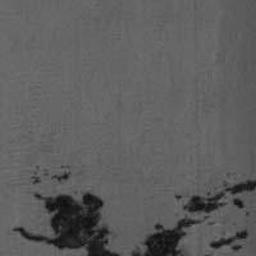Inclusion: (129, 179, 256, 256), (10, 191, 123, 256), (31, 163, 72, 186), (209, 229, 248, 251), (243, 207, 256, 219), (174, 193, 182, 202)
